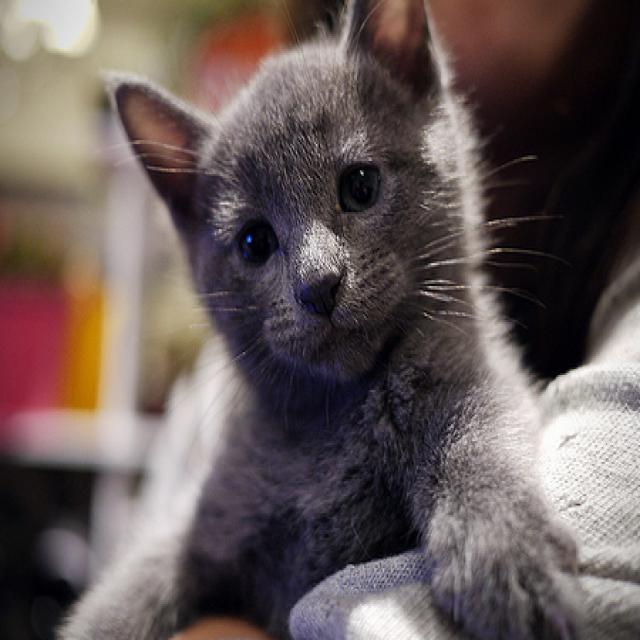Russian Blue: (23, 0, 587, 640)
